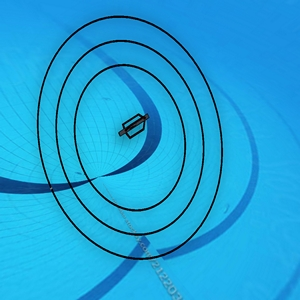submarine: (116, 112, 150, 141)
